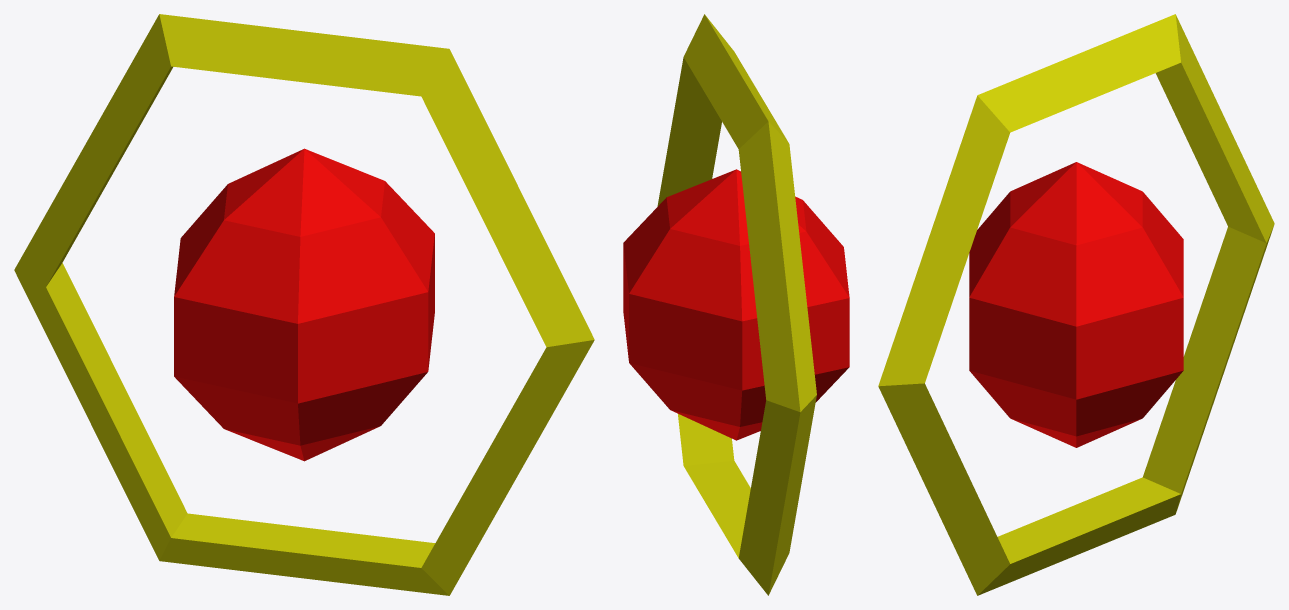
File: Battery_big_tiku.fbx
The picture shows the model from 3 angles, left to right: view 1: azimuth 30°, elevation 25°; view 2: azimuth 150°, elevation 25°; view 3: azimuth 270°, elevation 25°; orthographic projection. The views are drawn at different scales.
Visible parts, largest first — view 1: ENERGY_r, ENERGY_Core; view 2: ENERGY_r, ENERGY_Core; view 3: ENERGY_r, ENERGY_Core.
Boxes of the visible parts, bbox=[...] form: ENERGY_r: bbox=[14, 14, 594, 595]; ENERGY_Core: bbox=[174, 148, 434, 461]; ENERGY_r: bbox=[657, 14, 816, 595]; ENERGY_Core: bbox=[623, 169, 849, 440]; ENERGY_r: bbox=[878, 14, 1274, 595]; ENERGY_Core: bbox=[969, 162, 1183, 447].
Bounding box in the file's own units: 418 × 600 × 431.
